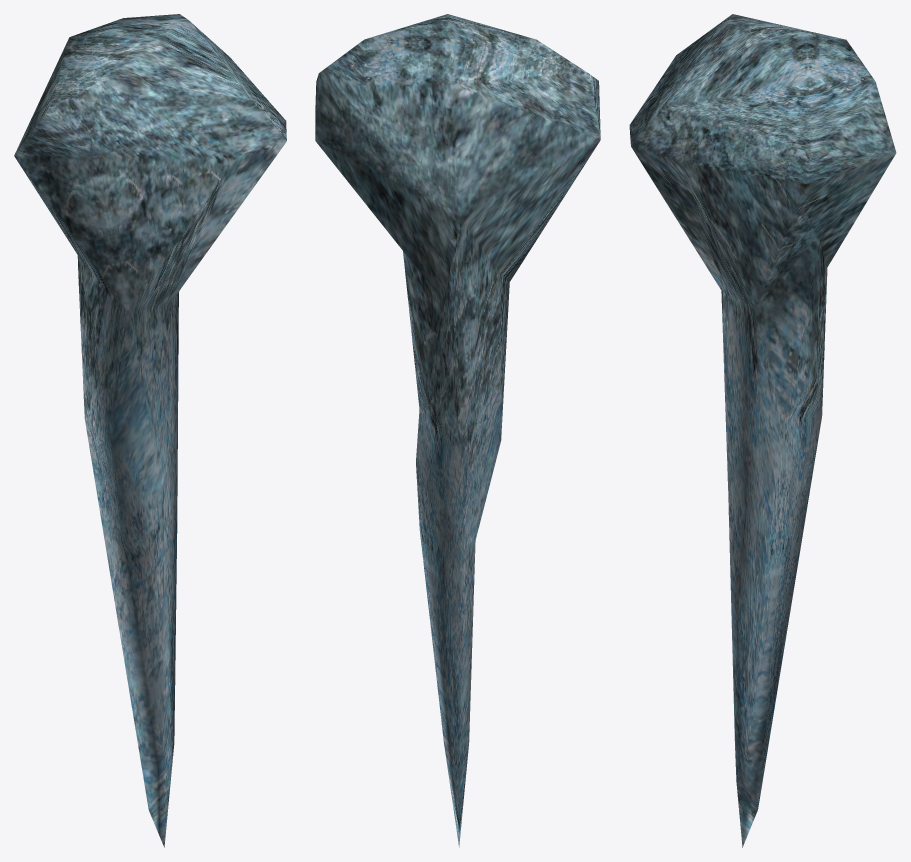
Rendered from thm_all_cave_stalagtite_ice_c2_l0.fbx.
3 views of the same model, side by side, from view 1: azimuth 30°, elevation 25°; view 2: azimuth 150°, elevation 25°; view 3: azimuth 270°, elevation 25° (orthographic). The views are drawn at different scales.
Parts seen in each view (by area): view 1: mesh_node; view 2: mesh_node; view 3: mesh_node.
Boxes of the visible parts, x1,y1,x2,y2 form: mesh_node: [14, 14, 286, 847]; mesh_node: [315, 14, 600, 847]; mesh_node: [629, 14, 896, 847].
Bounding box in the file's own units: 2.27 × 6.94 × 2.08.
